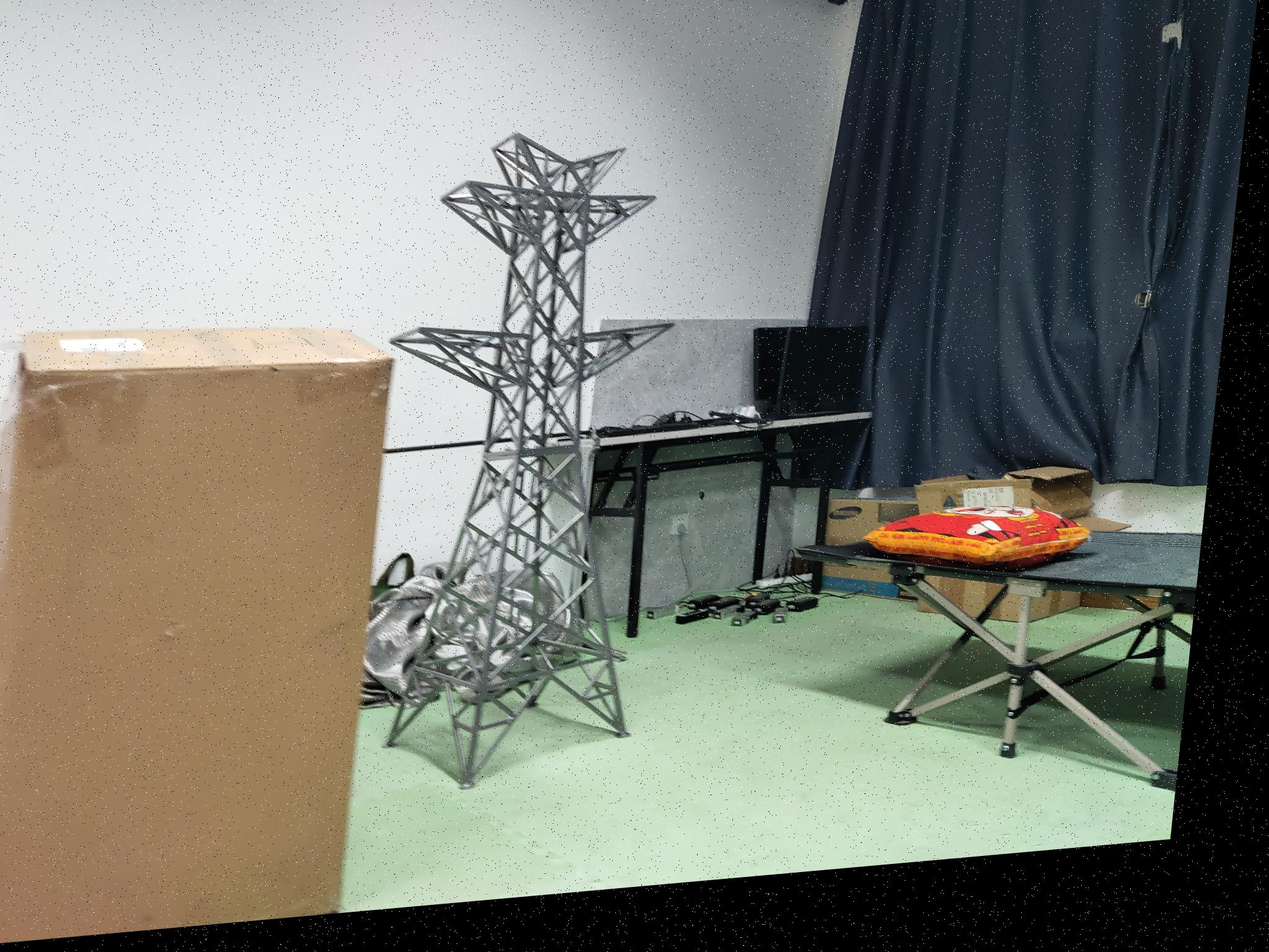tower: (347, 120, 697, 773)
